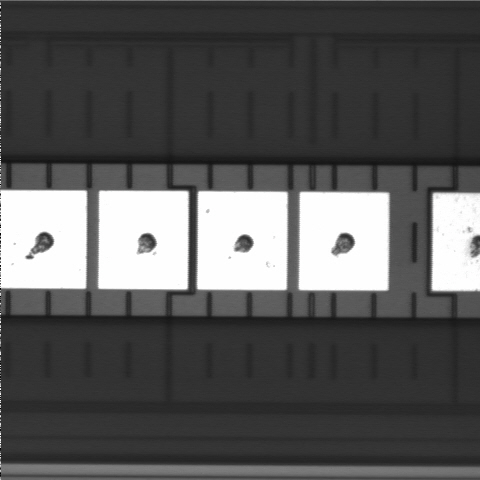pad: (197, 191, 288, 290), (299, 192, 389, 291), (98, 191, 188, 289)
